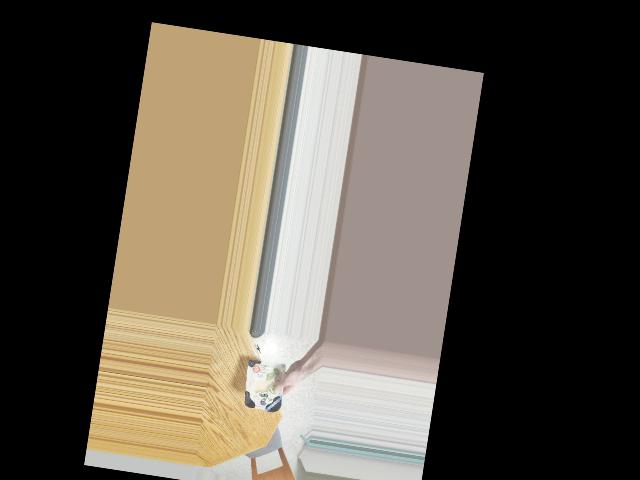cheese: (240, 348, 290, 424)
